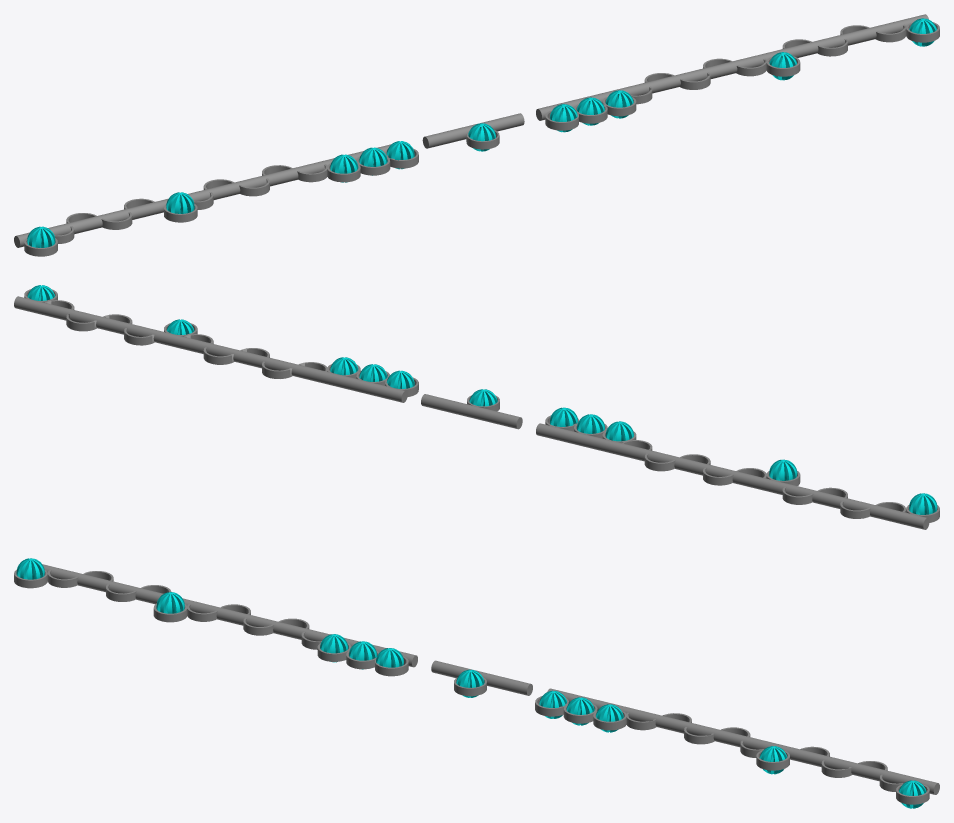
The model's file is Sec_Tybe (1).fbx.
The picture shows the model from 3 angles, top to bottom: view 1: azimuth 30°, elevation 25°; view 2: azimuth 150°, elevation 25°; view 3: azimuth 330°, elevation 25°; orthographic projection.
Visible parts, largest first — view 1: polySurface49 (×2), polySurface21, pSphere4; view 2: polySurface49 (×2), polySurface21; view 3: polySurface49 (×2).
Part boxes in pixels (bbox=[...]): polySurface49 (×2): bbox=[14, 14, 939, 256]; polySurface21: bbox=[456, 121, 499, 149]; pSphere4: bbox=[166, 192, 194, 213]; polySurface49 (×2): bbox=[14, 289, 939, 529]; polySurface21: bbox=[453, 395, 499, 421]; polySurface49 (×2): bbox=[14, 564, 939, 804].
Bounding box in the file's own units: 84.67 × 2.9 × 4.8.
